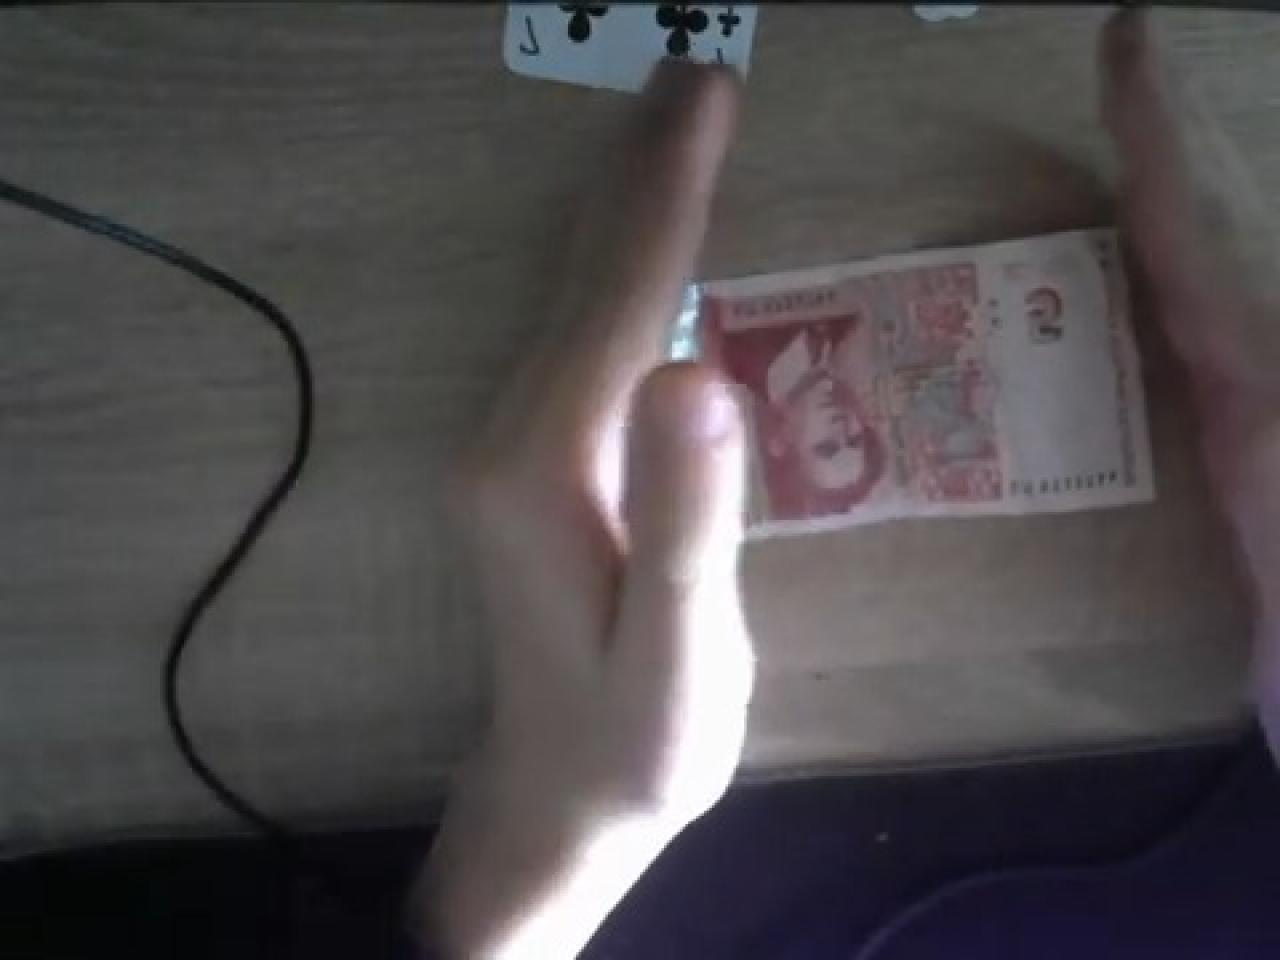5leva: (704, 227, 1155, 536)
